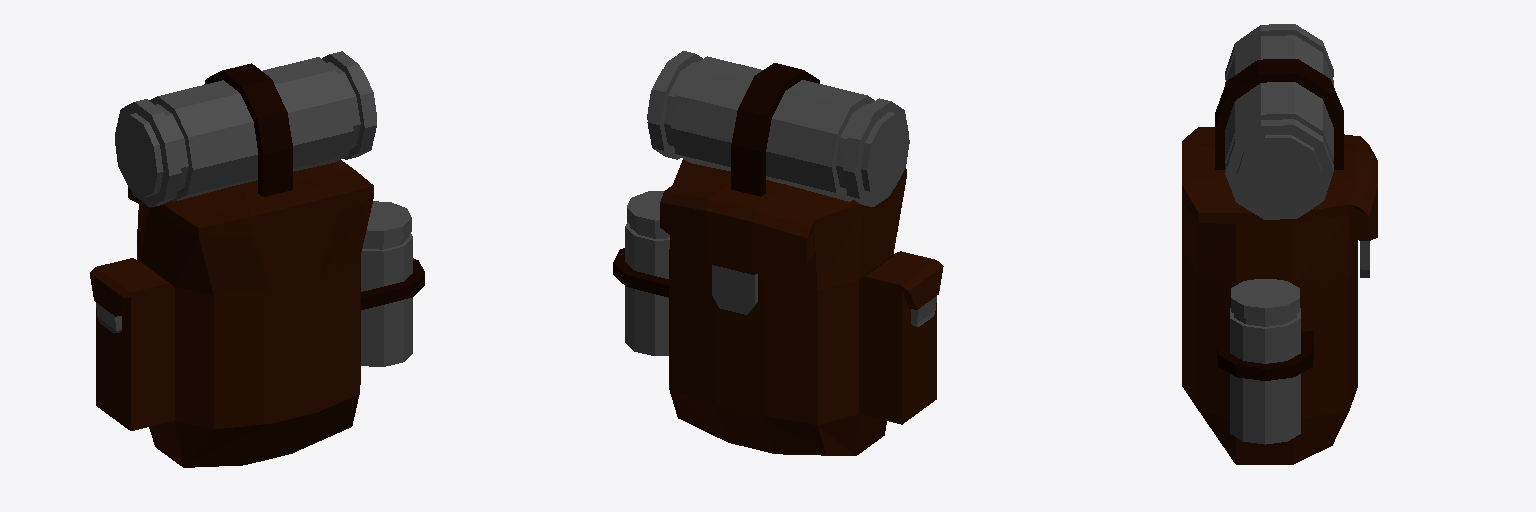
Rendered from BackPack.obj.
3 renders of one model, left to right at view 1: azimuth 30°, elevation 25°; view 2: azimuth 150°, elevation 25°; view 3: azimuth 270°, elevation 25°, orthographic.
Visible parts, largest first — view 1: polySurface55; view 2: polySurface55; view 3: polySurface55.
Boxes of the visible parts, box(x1,y1,x2,y2) form: polySurface55: box(90, 51, 424, 467); polySurface55: box(613, 51, 943, 455); polySurface55: box(1182, 24, 1377, 464).
Bounding box in the file's own units: 6.6 × 7.5 × 3.61.